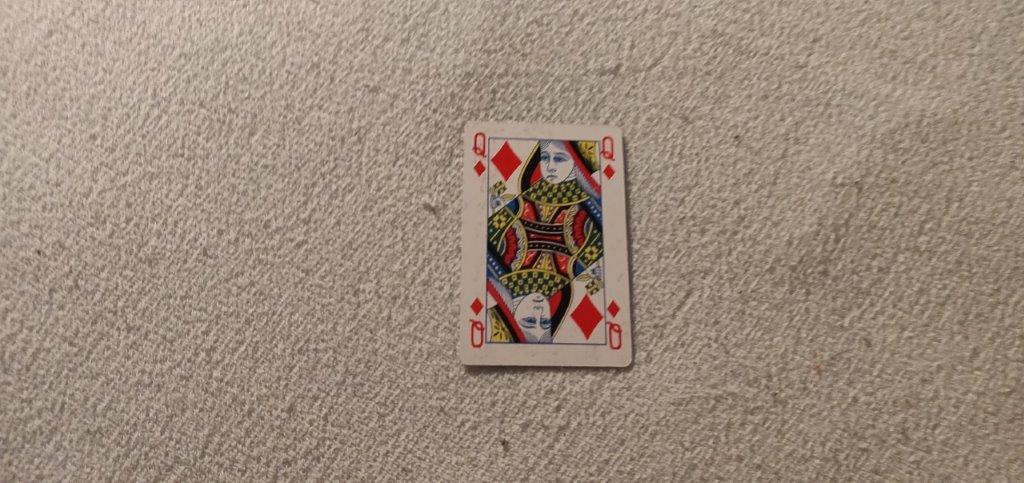QD: (469, 131, 492, 179), (598, 132, 619, 182)
